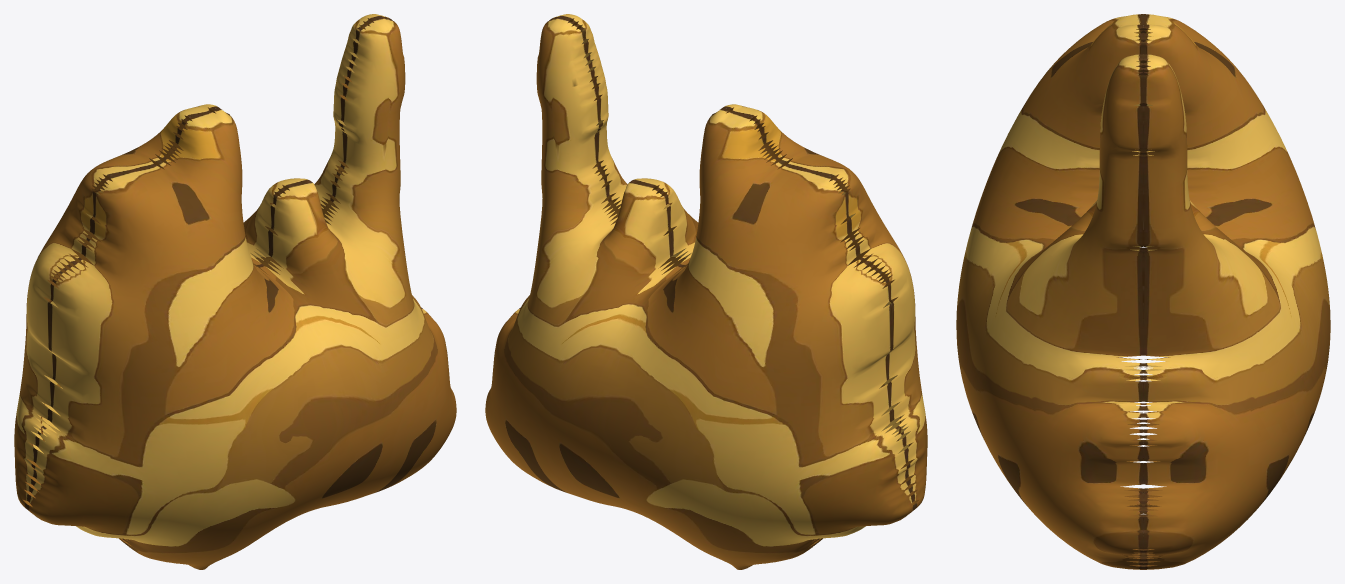
File: ruin_tower.glb
3 renders of one model, left to right at view 1: azimuth 30°, elevation 25°; view 2: azimuth 150°, elevation 25°; view 3: azimuth 270°, elevation 25°, orthographic. The views are drawn at different scales.
Visible parts, largest first — view 1: ruin_tower; view 2: ruin_tower; view 3: ruin_tower.
Boxes of the visible parts, box(x1,y1,x2,y2) form: ruin_tower: box(14, 14, 456, 569); ruin_tower: box(485, 14, 927, 569); ruin_tower: box(956, 14, 1330, 569).
Size of the model in its own units: 0.9876 by 1.09 by 0.6838.
1 material, 1 textured.
